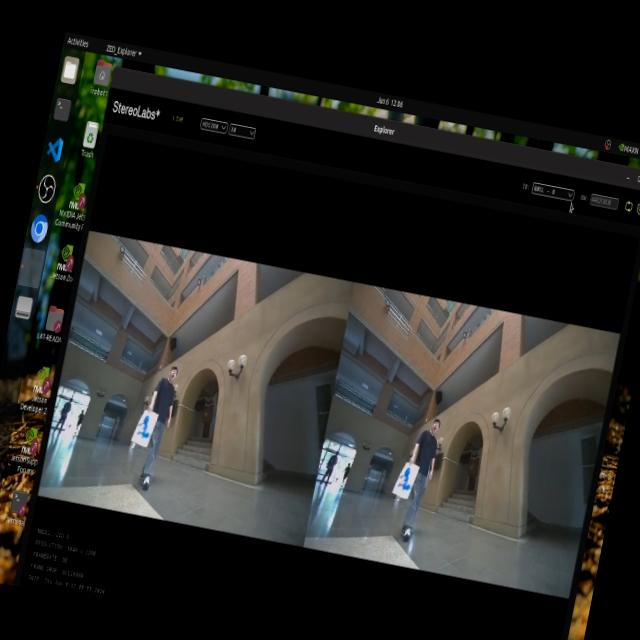blue: (134, 409, 160, 443), (394, 462, 417, 499)
